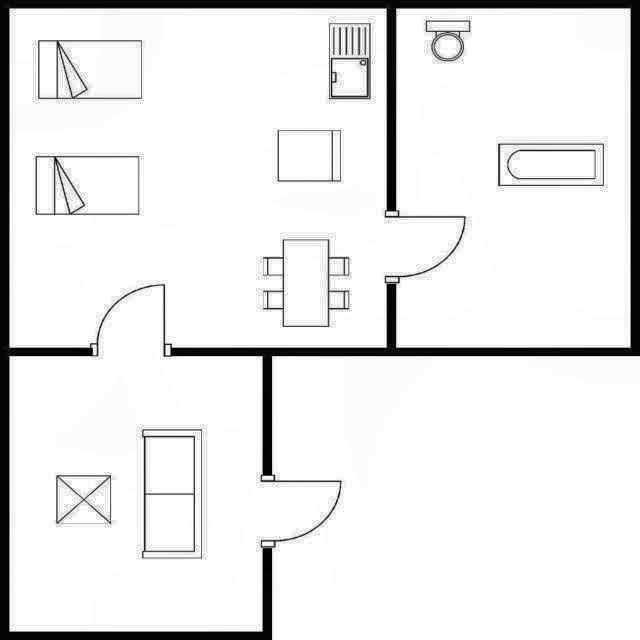room: (9, 8, 387, 348), (396, 8, 631, 348), (9, 356, 263, 632)
